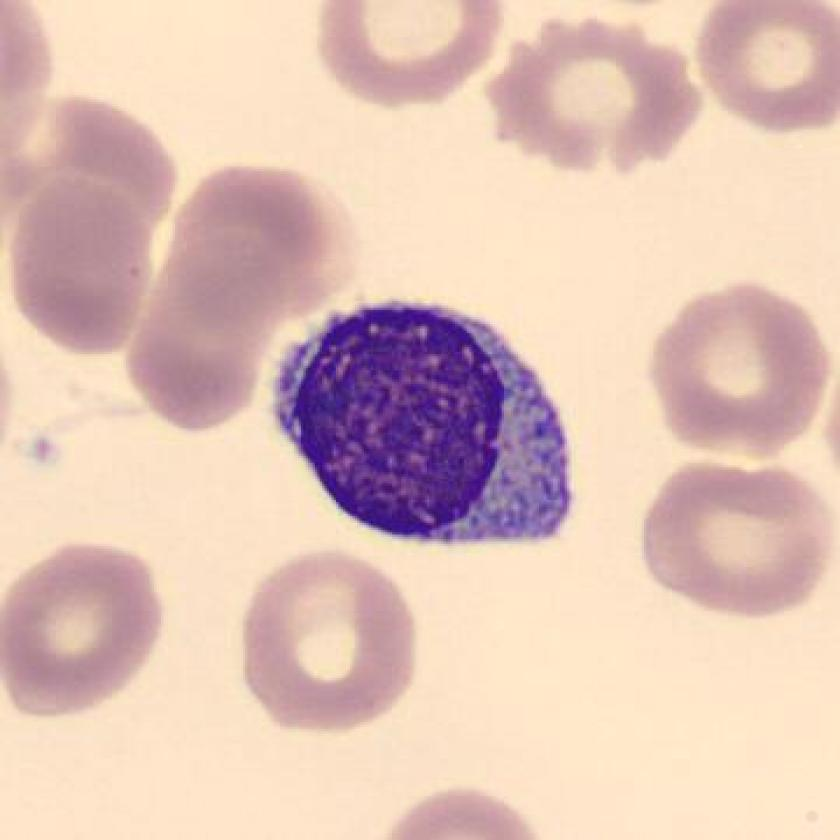lymphocyte: (265, 288, 589, 568)
